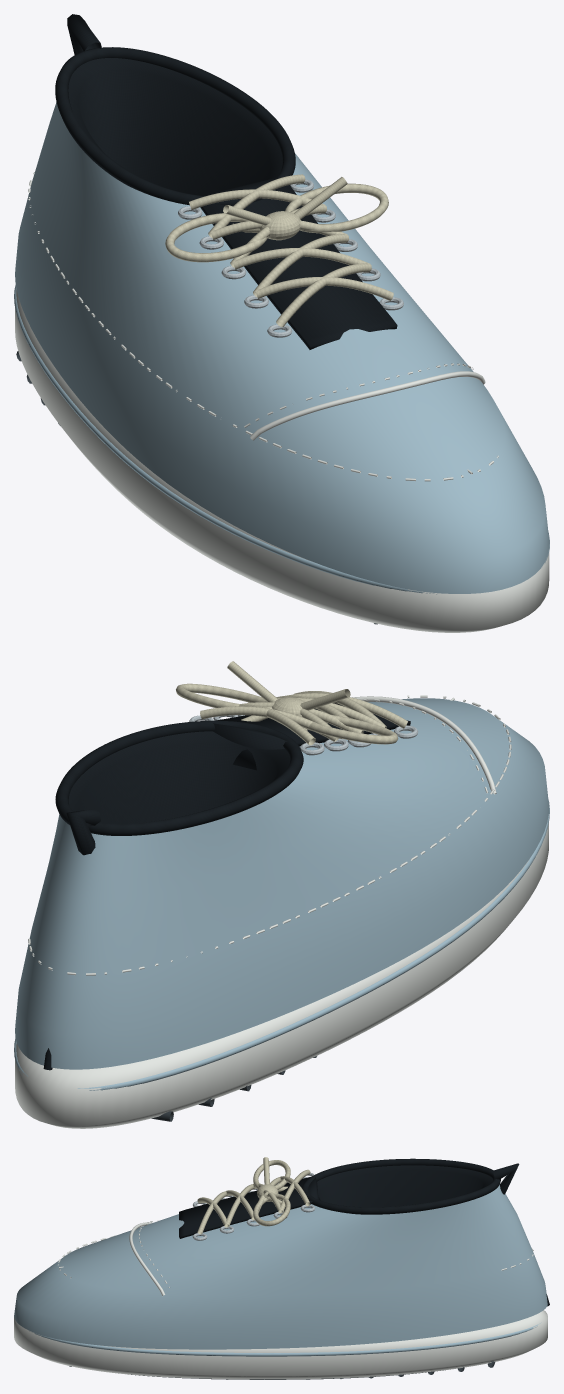
File: Sneaker_Right_cm.glb
3 views of the same model, one above another, from view 1: azimuth 30°, elevation 25°; view 2: azimuth 150°, elevation 25°; view 3: azimuth 270°, elevation 25° (orthographic). The views are drawn at different scales.
Visible parts, largest first — view 1: Sneaker_Right_HollowUpper, Sneaker_Right_MouldedMidsole, Sneaker_Right_PaddedInnerCollar, Sneaker_Right_Tongue, Sneaker_Right_CollarBinding, Sneaker_Right_MidsoleWelt, Sneaker_Right_BowLoop, Sneaker_Right_BowLoop.001, Sneaker_Right_ToePanelPiping, Sneaker_Right_CrossLace.001, Sneaker_Right_CrossLace.003, Sneaker_Right_CrossLace (+6 smaller); view 2: Sneaker_Right_HollowUpper, Sneaker_Right_MouldedMidsole, Sneaker_Right_PaddedInnerCollar, Sneaker_Right_CollarBinding, Sneaker_Right_MidsoleWelt, Sneaker_Right_Tongue, Sneaker_Right_BowLoop, Sneaker_Right_BowLoop.001, Sneaker_Right_ToePanelPiping, Sneaker_Right_HeelPullLoop, Sneaker_Right_CrossLace.006, Sneaker_Right_QuarterPanelStitch (+3 smaller); view 3: Sneaker_Right_HollowUpper, Sneaker_Right_MouldedMidsole, Sneaker_Right_PaddedInnerCollar, Sneaker_Right_CollarBinding, Sneaker_Right_Tongue, Sneaker_Right_MidsoleWelt, Sneaker_Right_BowLoop.001, Sneaker_Right_HeelPullLoop, Sneaker_Right_BowLoop, Sneaker_Right_ToePanelPiping.
Boxes of the visible parts, x1=… form: Sneaker_Right_HollowUpper: x1=15, y1=102, x2=549, y2=593; Sneaker_Right_MouldedMidsole: x1=15, y1=289, x2=549, y2=632; Sneaker_Right_PaddedInnerCollar: x1=68, y1=58, x2=282, y2=195; Sneaker_Right_Tongue: x1=200, y1=177, x2=397, y2=349; Sneaker_Right_CollarBinding: x1=55, y1=47, x2=295, y2=205; Sneaker_Right_MidsoleWelt: x1=14, y1=285, x2=549, y2=594; Sneaker_Right_BowLoop: x1=165, y1=213, x2=268, y2=262; Sneaker_Right_BowLoop.001: x1=285, y1=183, x2=388, y2=233; Sneaker_Right_ToePanelPiping: x1=250, y1=371, x2=485, y2=440; Sneaker_Right_CrossLace.001: x1=255, y1=277, x2=393, y2=300; Sneaker_Right_CrossLace.003: x1=233, y1=248, x2=370, y2=269; Sneaker_Right_CrossLace: x1=276, y1=263, x2=371, y2=326; Sneaker_Right_HollowUpper: x1=15, y1=698, x2=548, y2=1069; Sneaker_Right_MouldedMidsole: x1=15, y1=823, x2=548, y2=1128; Sneaker_Right_PaddedInnerCollar: x1=68, y1=731, x2=290, y2=823; Sneaker_Right_CollarBinding: x1=55, y1=720, x2=303, y2=835; Sneaker_Right_MidsoleWelt: x1=14, y1=799, x2=549, y2=1090; Sneaker_Right_Tongue: x1=213, y1=703, x2=410, y2=770; Sneaker_Right_BowLoop: x1=295, y1=713, x2=398, y2=744; Sneaker_Right_BowLoop.001: x1=176, y1=683, x2=272, y2=709; Sneaker_Right_ToePanelPiping: x1=352, y1=696, x2=496, y2=794; Sneaker_Right_HeelPullLoop: x1=66, y1=808, x2=100, y2=855; Sneaker_Right_CrossLace.006: x1=200, y1=706, x2=336, y2=741; Sneaker_Right_QuarterPanelStitch: x1=67, y1=699, x2=511, y2=975; Sneaker_Right_HollowUpper: x1=14, y1=1184, x2=547, y2=1349; Sneaker_Right_MouldedMidsole: x1=14, y1=1310, x2=547, y2=1379; Sneaker_Right_PaddedInnerCollar: x1=317, y1=1165, x2=493, y2=1207; Sneaker_Right_CollarBinding: x1=302, y1=1158, x2=500, y2=1214; Sneaker_Right_Tongue: x1=179, y1=1177, x2=319, y2=1238; Sneaker_Right_MidsoleWelt: x1=29, y1=1322, x2=541, y2=1356; Sneaker_Right_BowLoop.001: x1=253, y1=1194, x2=290, y2=1226; Sneaker_Right_HeelPullLoop: x1=493, y1=1163, x2=519, y2=1194; Sneaker_Right_BowLoop: x1=253, y1=1160, x2=290, y2=1189; Sneaker_Right_ToePanelPiping: x1=129, y1=1222, x2=165, y2=1296.
Size of the model in its own units: 3.26 by 3.35 by 8.93.
Materials: 6 (2 with a texture image).
